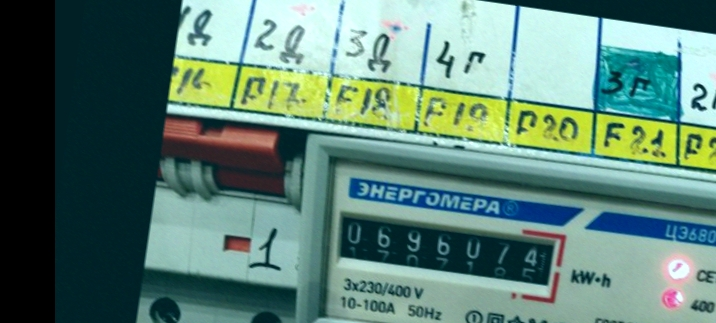0: (342, 218, 365, 244), (463, 233, 483, 260)
4: (521, 241, 540, 265)
5: (520, 266, 538, 283)
6: (435, 229, 455, 257), (374, 222, 394, 248)
7: (493, 238, 513, 265)
9: (404, 226, 423, 254)
screen: (323, 197, 570, 299)
